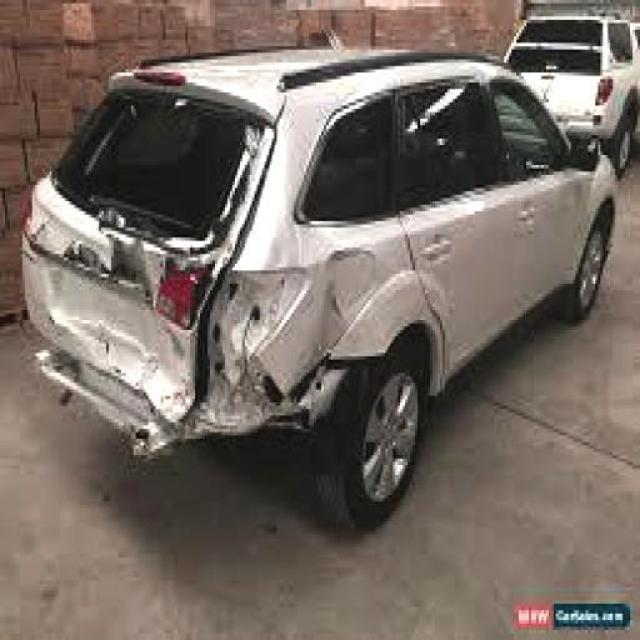car damage: (20, 170, 389, 448)
